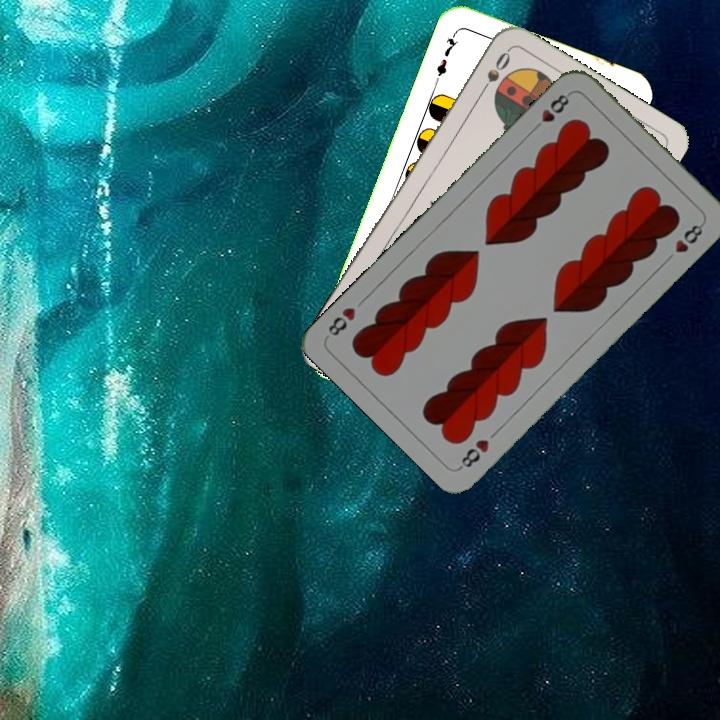E7: (431, 28, 461, 85)
H8: (528, 88, 574, 135), (456, 435, 492, 472)
SO: (474, 46, 513, 100)
